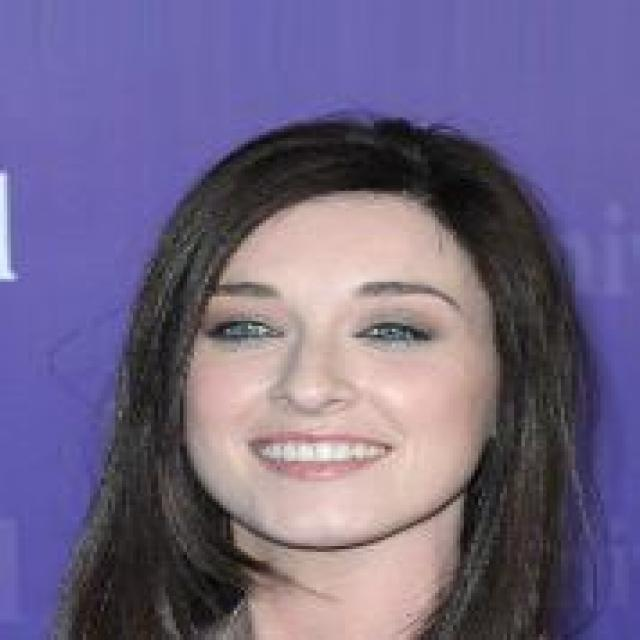nomask: (140, 112, 532, 546)
